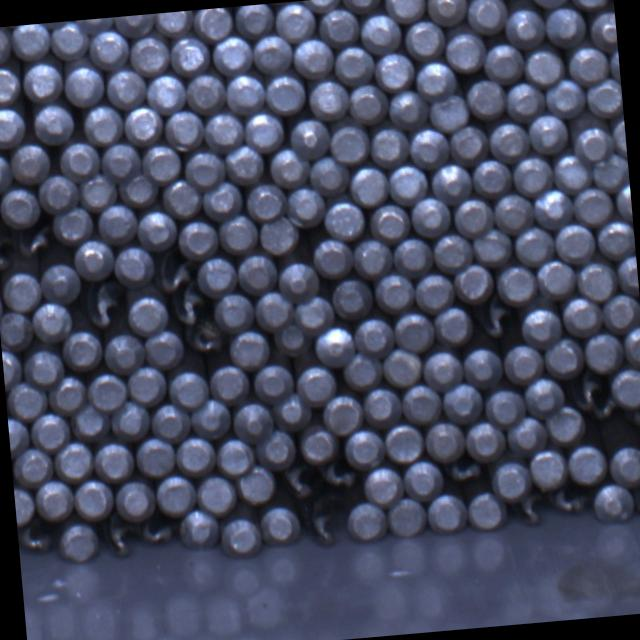tool: (544, 5, 590, 49), (312, 323, 356, 368), (331, 275, 375, 320), (502, 5, 546, 49), (510, 154, 554, 198), (112, 478, 156, 522), (362, 464, 406, 508), (60, 329, 104, 373), (414, 58, 458, 102), (518, 305, 562, 349), (32, 102, 76, 146), (592, 481, 636, 525), (483, 42, 526, 86), (128, 33, 172, 76), (553, 222, 596, 266), (267, 146, 310, 190), (155, 472, 198, 516), (233, 400, 276, 444), (126, 292, 170, 335), (114, 244, 157, 288), (308, 76, 352, 119), (52, 441, 96, 484), (322, 197, 366, 240), (8, 141, 51, 185), (453, 262, 496, 306), (59, 139, 103, 182), (205, 110, 248, 154), (332, 44, 375, 88), (421, 348, 464, 392), (184, 72, 227, 116), (401, 458, 444, 502), (428, 160, 472, 203), (293, 36, 336, 80), (288, 115, 330, 160), (101, 332, 146, 374), (162, 108, 205, 151), (166, 368, 209, 411), (92, 441, 135, 484), (235, 252, 278, 295), (409, 194, 452, 237), (369, 125, 412, 168), (444, 30, 487, 73), (359, 12, 402, 55), (349, 163, 392, 206), (63, 64, 106, 107), (190, 398, 233, 441), (425, 491, 468, 534), (81, 102, 124, 145), (309, 154, 352, 197), (72, 476, 114, 520), (294, 363, 338, 405), (512, 224, 556, 266), (494, 190, 536, 234), (582, 330, 624, 374), (126, 362, 168, 406), (86, 368, 130, 410), (408, 124, 450, 168), (226, 72, 268, 116), (566, 441, 608, 485), (228, 327, 272, 369), (34, 477, 76, 521), (460, 345, 502, 389), (200, 180, 244, 222), (488, 118, 530, 162), (504, 342, 546, 386), (432, 230, 476, 272), (372, 270, 416, 312), (58, 520, 100, 564), (22, 60, 64, 104), (404, 17, 448, 59), (218, 516, 262, 558), (276, 260, 320, 302), (96, 201, 138, 244), (40, 262, 82, 305), (144, 328, 186, 371), (133, 434, 176, 476), (146, 72, 188, 115), (402, 383, 444, 426), (110, 398, 152, 441), (389, 161, 431, 204), (286, 185, 328, 228), (243, 110, 285, 153), (321, 394, 364, 436), (392, 311, 434, 354), (178, 216, 221, 258), (496, 262, 539, 304), (544, 336, 586, 379), (488, 458, 530, 501), (368, 200, 411, 242), (545, 76, 588, 118), (388, 87, 431, 129), (465, 76, 507, 119), (348, 82, 390, 125), (527, 113, 569, 156), (551, 152, 593, 195), (196, 473, 238, 516), (251, 34, 294, 76), (263, 72, 306, 114), (352, 316, 394, 359), (38, 172, 80, 215), (195, 256, 238, 298), (533, 187, 575, 230), (464, 421, 506, 464), (31, 300, 74, 342), (253, 428, 296, 470), (160, 175, 202, 218), (344, 428, 387, 470), (210, 33, 253, 75), (177, 507, 220, 549), (258, 214, 301, 256), (521, 376, 564, 418), (0, 184, 41, 228), (259, 504, 300, 548), (574, 260, 616, 302), (78, 172, 120, 214), (73, 238, 115, 280), (350, 236, 392, 278), (572, 184, 614, 226), (174, 435, 216, 477), (414, 270, 456, 312), (122, 104, 164, 146), (138, 208, 180, 250), (218, 211, 260, 253), (223, 144, 265, 186), (454, 196, 496, 238), (12, 446, 54, 488), (89, 29, 131, 71), (328, 122, 370, 164), (170, 34, 212, 76), (46, 372, 88, 414), (424, 420, 466, 462), (383, 421, 425, 463), (432, 305, 474, 347), (150, 400, 192, 442), (504, 79, 546, 121), (536, 256, 578, 298), (312, 236, 354, 278), (562, 294, 604, 336), (442, 382, 484, 424), (392, 234, 434, 276), (274, 0, 317, 41), (1, 268, 42, 311), (380, 345, 423, 386), (5, 379, 48, 420), (105, 66, 146, 109), (27, 410, 70, 451), (567, 45, 610, 86), (484, 387, 527, 428), (361, 386, 402, 429), (68, 404, 111, 445), (236, 462, 277, 505), (184, 148, 228, 188), (528, 447, 568, 491), (50, 204, 94, 244), (374, 51, 416, 92), (386, 497, 428, 538), (252, 361, 294, 402), (208, 361, 250, 402), (542, 403, 584, 444), (272, 392, 314, 433), (426, 92, 469, 132), (470, 158, 513, 198), (21, 348, 64, 388), (213, 290, 254, 331), (346, 501, 387, 542), (246, 180, 288, 220), (596, 218, 636, 260), (140, 142, 182, 182), (524, 46, 566, 86), (472, 228, 514, 268), (102, 140, 144, 180), (254, 289, 294, 331), (506, 416, 548, 456), (447, 124, 488, 164), (466, 490, 506, 531), (601, 290, 640, 332), (573, 123, 615, 162), (298, 426, 338, 466), (342, 350, 383, 389), (585, 76, 623, 118), (318, 8, 360, 46), (290, 292, 332, 330), (216, 438, 256, 477), (51, 19, 91, 58), (10, 22, 52, 59), (118, 172, 158, 210), (272, 322, 312, 360), (593, 152, 630, 193), (467, 0, 509, 35), (194, 7, 237, 40), (608, 443, 640, 487), (235, 3, 276, 37), (0, 308, 33, 350), (609, 367, 640, 408), (590, 9, 618, 52), (0, 106, 26, 150), (426, 0, 468, 25), (156, 10, 195, 36), (383, 0, 427, 23), (113, 13, 155, 36), (616, 254, 639, 296), (8, 416, 30, 457), (14, 484, 36, 524), (1, 349, 22, 390), (0, 65, 20, 106), (622, 324, 640, 367), (611, 114, 627, 158), (614, 182, 632, 220), (76, 17, 116, 34), (0, 150, 12, 193), (302, 0, 345, 12), (343, 0, 384, 12), (608, 45, 620, 85), (0, 26, 11, 64), (530, 0, 572, 8), (569, 0, 611, 8)
tool_b: (300, 494, 348, 550), (80, 280, 126, 330), (168, 282, 208, 326), (476, 300, 516, 342), (100, 520, 140, 560), (153, 256, 194, 294), (278, 463, 318, 501), (14, 222, 54, 260), (442, 454, 484, 490), (584, 381, 618, 424), (185, 318, 223, 356), (551, 484, 592, 519), (569, 375, 607, 412), (320, 457, 358, 493), (16, 522, 54, 557), (140, 515, 178, 549), (514, 493, 546, 528), (0, 223, 15, 270), (629, 399, 640, 431), (635, 477, 640, 524)
